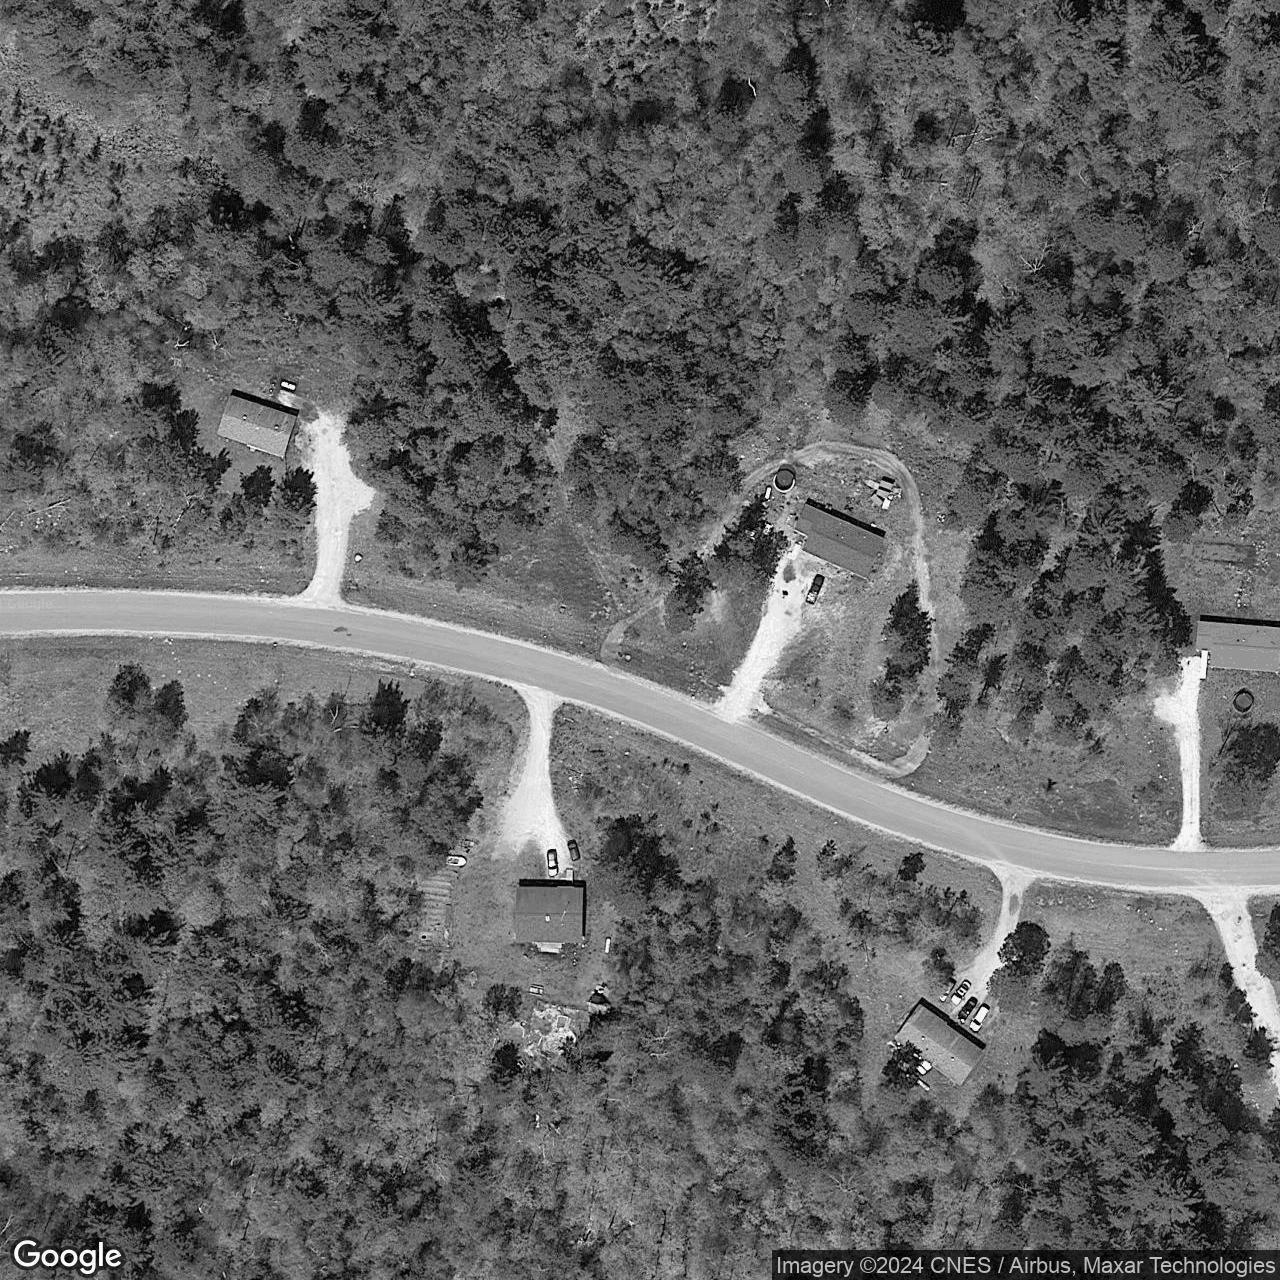House: (892, 1001, 986, 1088), (794, 502, 885, 579), (216, 392, 298, 459), (1194, 619, 1280, 674), (513, 885, 585, 944)
Propane: (913, 1076, 933, 1094), (278, 379, 299, 393), (602, 937, 615, 955), (763, 484, 774, 502)
